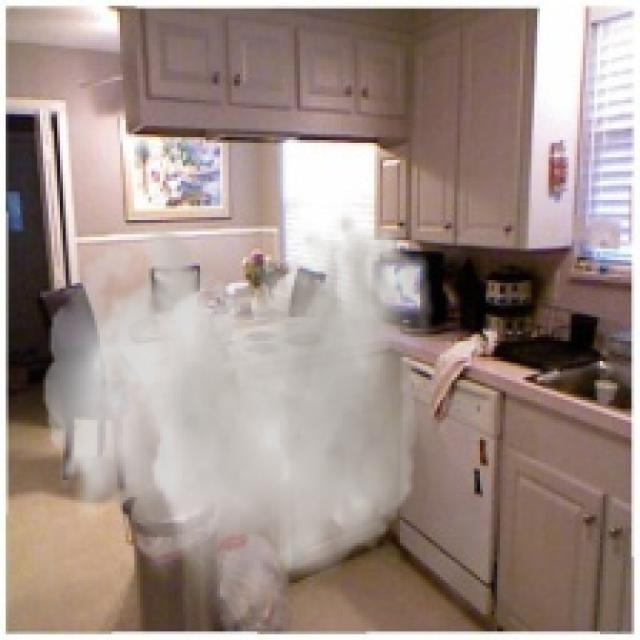smoke: (43, 212, 434, 634)
